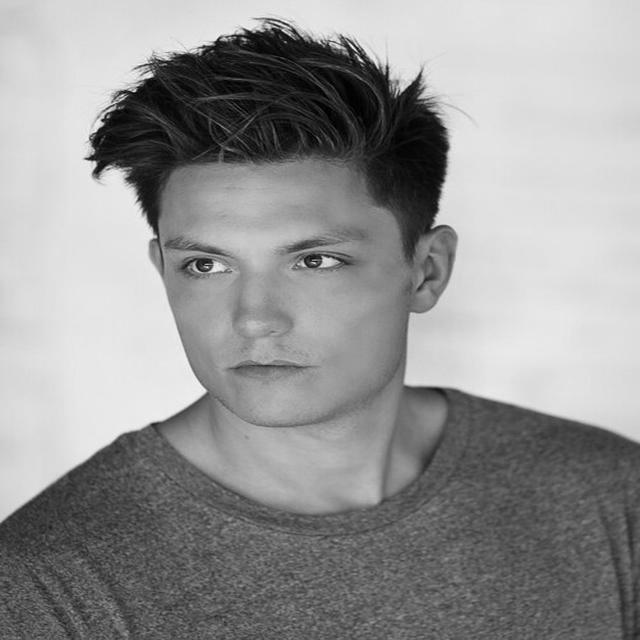Neutral: (158, 164, 411, 426)
